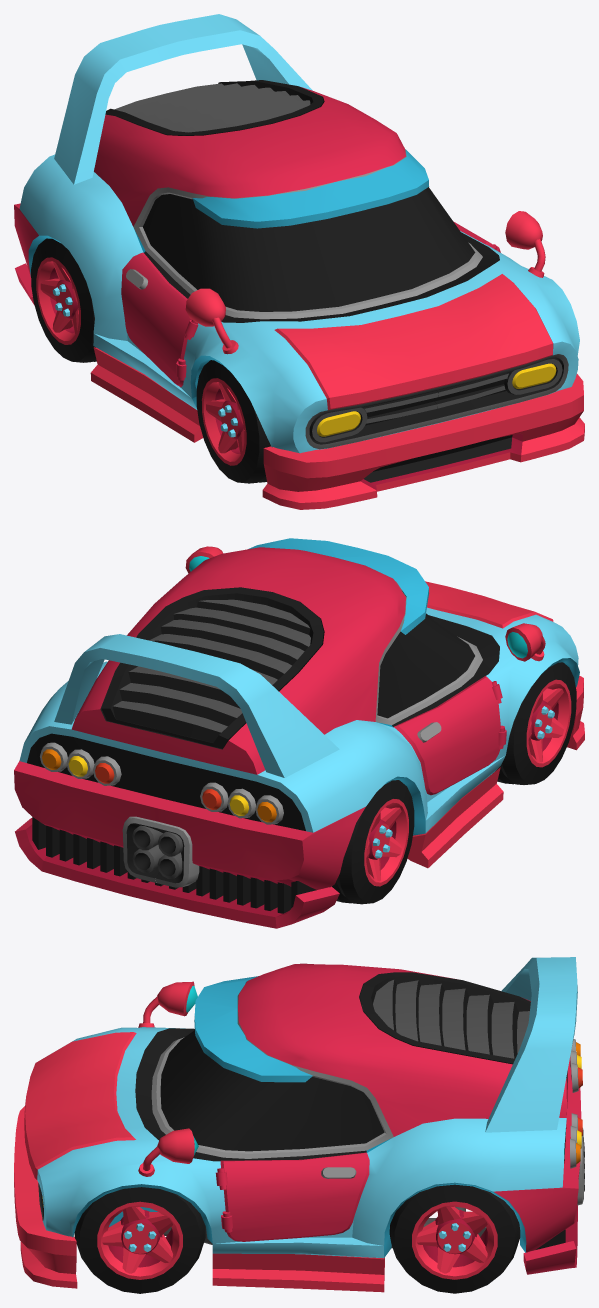
File: VEH17-B.fbx
3 views of the same model, one above another, from view 1: azimuth 30°, elevation 25°; view 2: azimuth 150°, elevation 25°; view 3: azimuth 270°, elevation 25° (orthographic). The views are drawn at different scales.
Visible parts, largest first — view 1: VEH17_B, V17B_Wheel_FR, V17B_Wheel_BR; view 2: VEH17_B, V17B_Wheel_BR, V17B_Wheel_FR; view 3: VEH17_B, V17B_Wheel_BL, V17B_Wheel_FL.
Boxes of the visible parts, x1=… form: VEH17_B: x1=14, y1=14, x2=584, y2=509; V17B_Wheel_FR: x1=196, y1=360, x2=270, y2=483; V17B_Wheel_BR: x1=31, y1=238, x2=96, y2=362; VEH17_B: x1=14, y1=538, x2=584, y2=928; V17B_Wheel_BR: x1=332, y1=780, x2=414, y2=904; V17B_Wheel_FR: x1=495, y1=662, x2=576, y2=784; VEH17_B: x1=14, y1=957, x2=584, y2=1292; V17B_Wheel_BL: x1=389, y1=1184, x2=520, y2=1293; V17B_Wheel_FL: x1=74, y1=1187, x2=205, y2=1293.
Size of the model in its own units: 260 by 182 by 388.
Materials: 1 (1 with a texture image).
